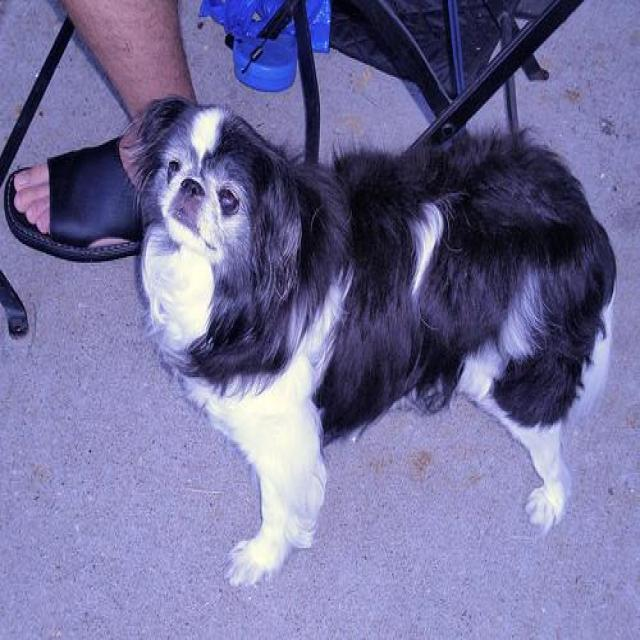husky: (116, 94, 618, 590)
